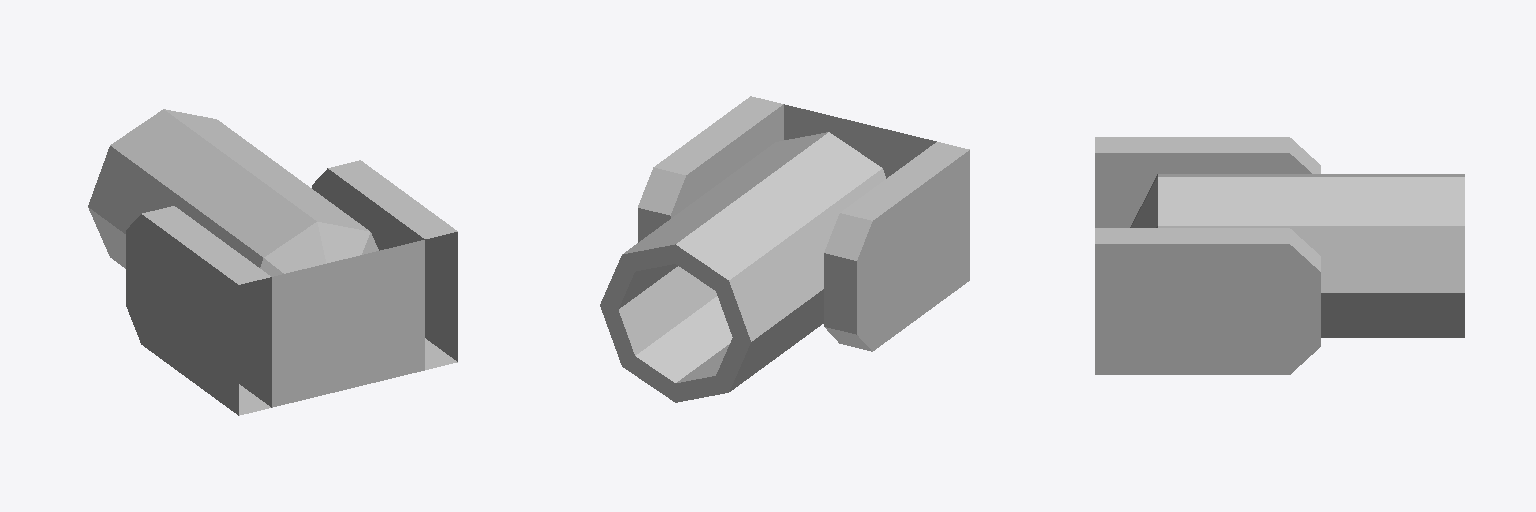
File: houdai.obj
The picture shows the model from 3 angles: view 1: azimuth 30°, elevation 25°; view 2: azimuth 150°, elevation 25°; view 3: azimuth 270°, elevation 25°; orthographic projection.
Parts seen in each view (by area): view 1: houdai_joint_0-node; view 2: houdai_joint_0-node; view 3: houdai_joint_0-node.
Boxes of the visible parts, box(x1,y1,x2,y2) form: houdai_joint_0-node: box(88, 109, 457, 415); houdai_joint_0-node: box(600, 96, 969, 402); houdai_joint_0-node: box(1095, 137, 1464, 374).
Size of the model in its own units: 30.4 by 20.97 by 44.37.